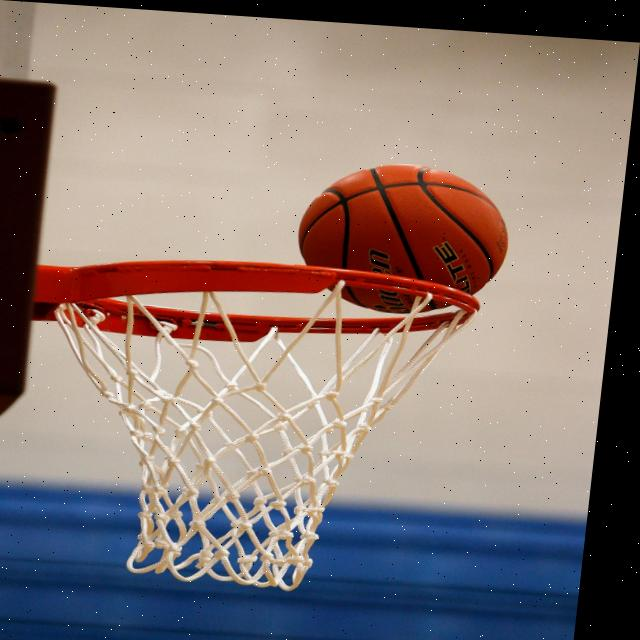rebound_hit: (289, 156, 515, 320)
